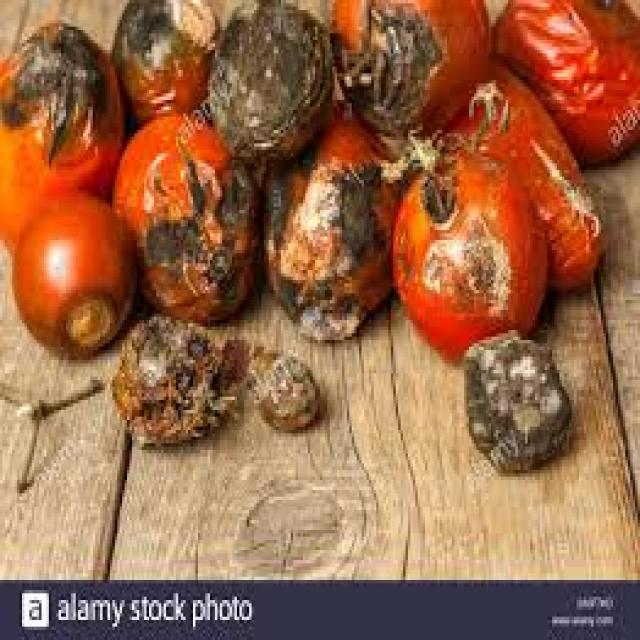biodegradable: (450, 53, 604, 290), (259, 93, 401, 337), (108, 110, 262, 317), (0, 20, 120, 253), (489, 0, 638, 160), (327, 0, 488, 143), (7, 177, 127, 353), (208, 0, 330, 160), (110, 310, 242, 443), (462, 327, 567, 467), (110, 0, 220, 117), (0, 377, 105, 487), (242, 340, 315, 423)
